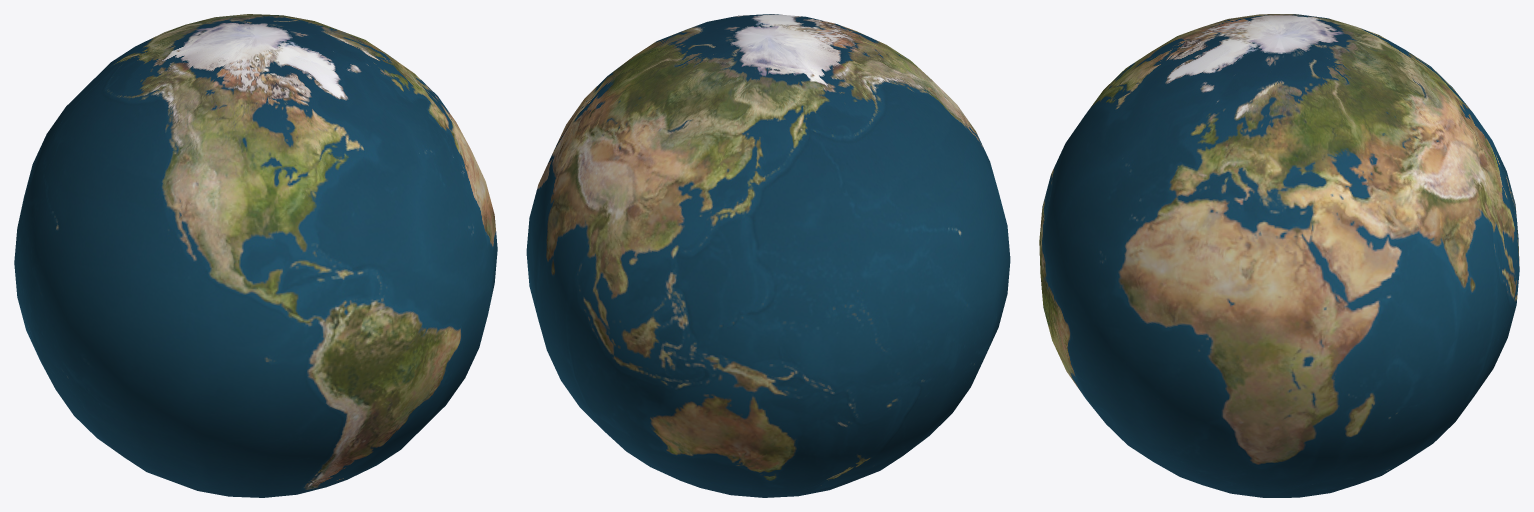
Rendered from tierra.fbx.
The picture shows the model from 3 angles, left to right: view 1: azimuth 30°, elevation 25°; view 2: azimuth 150°, elevation 25°; view 3: azimuth 270°, elevation 25°; orthographic projection.
Parts seen in each view (by area): view 1: pSphere1; view 2: pSphere1; view 3: pSphere1.
Part boxes in pixels (<box>): pSphere1: <box>14,14,497,497</box>; pSphere1: <box>526,14,1010,497</box>; pSphere1: <box>1039,14,1519,497</box>.
Size of the model in its own units: 55.06 by 55.63 by 55.06.
Materials: 1 (1 with a texture image).
